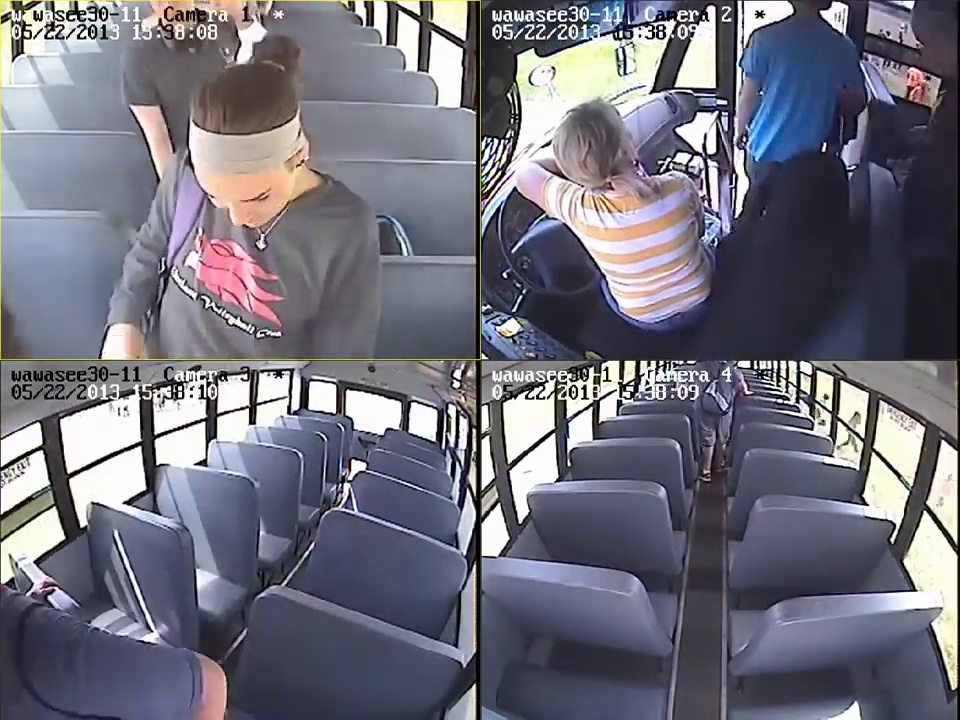face: (193, 168, 294, 250)
